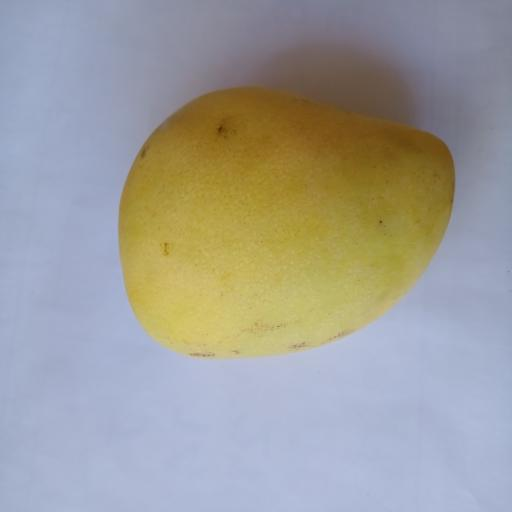mango-ripe: (95, 74, 469, 382)
